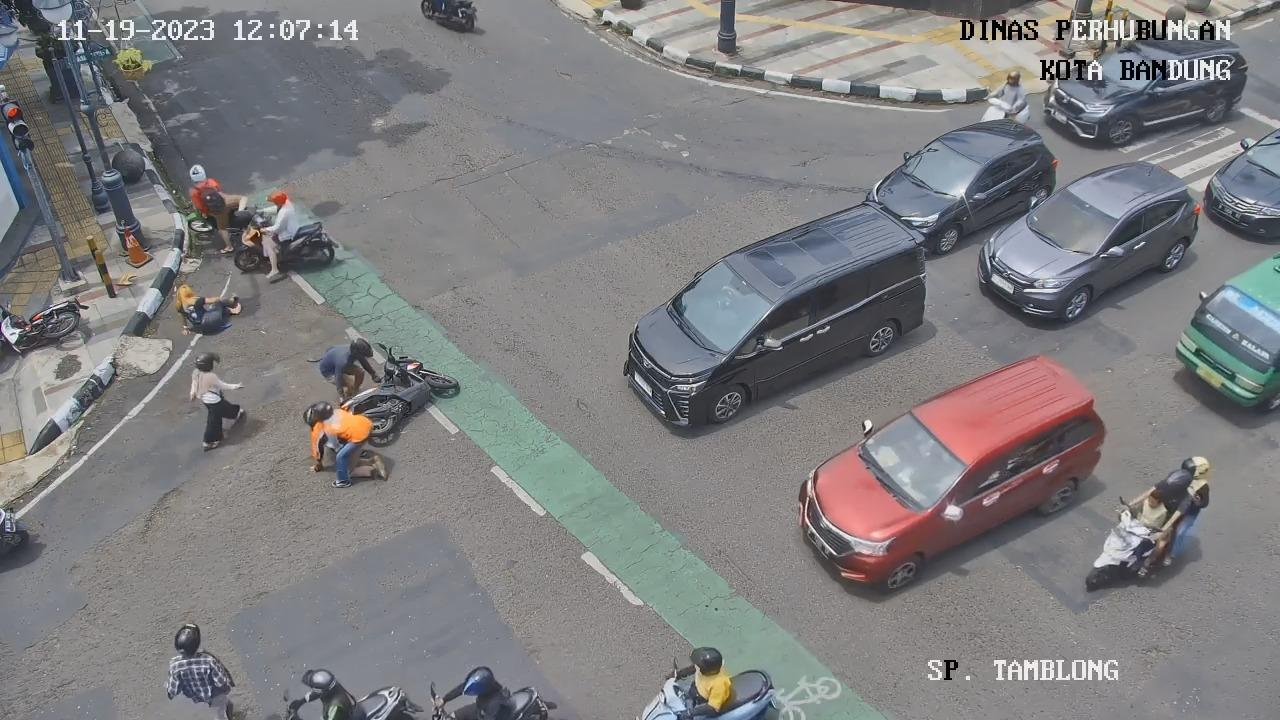accident: (297, 392, 403, 490), (169, 273, 252, 344)
